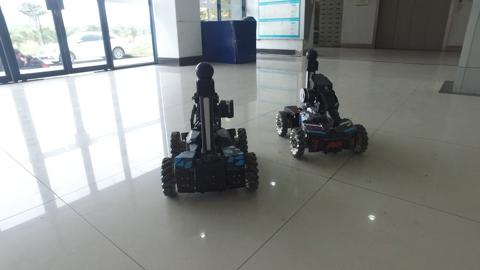car: (34, 24, 143, 65)
chariot: (155, 60, 266, 199), (273, 45, 382, 163)
